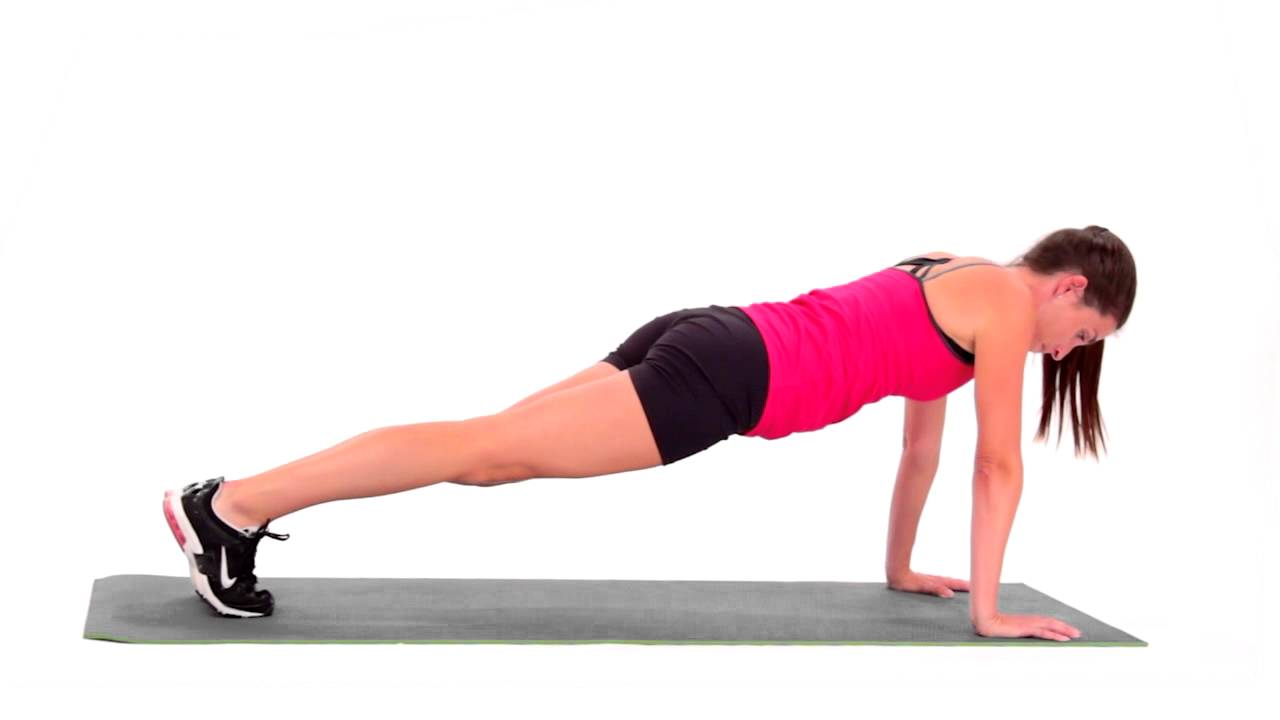up: (158, 224, 1135, 647)
